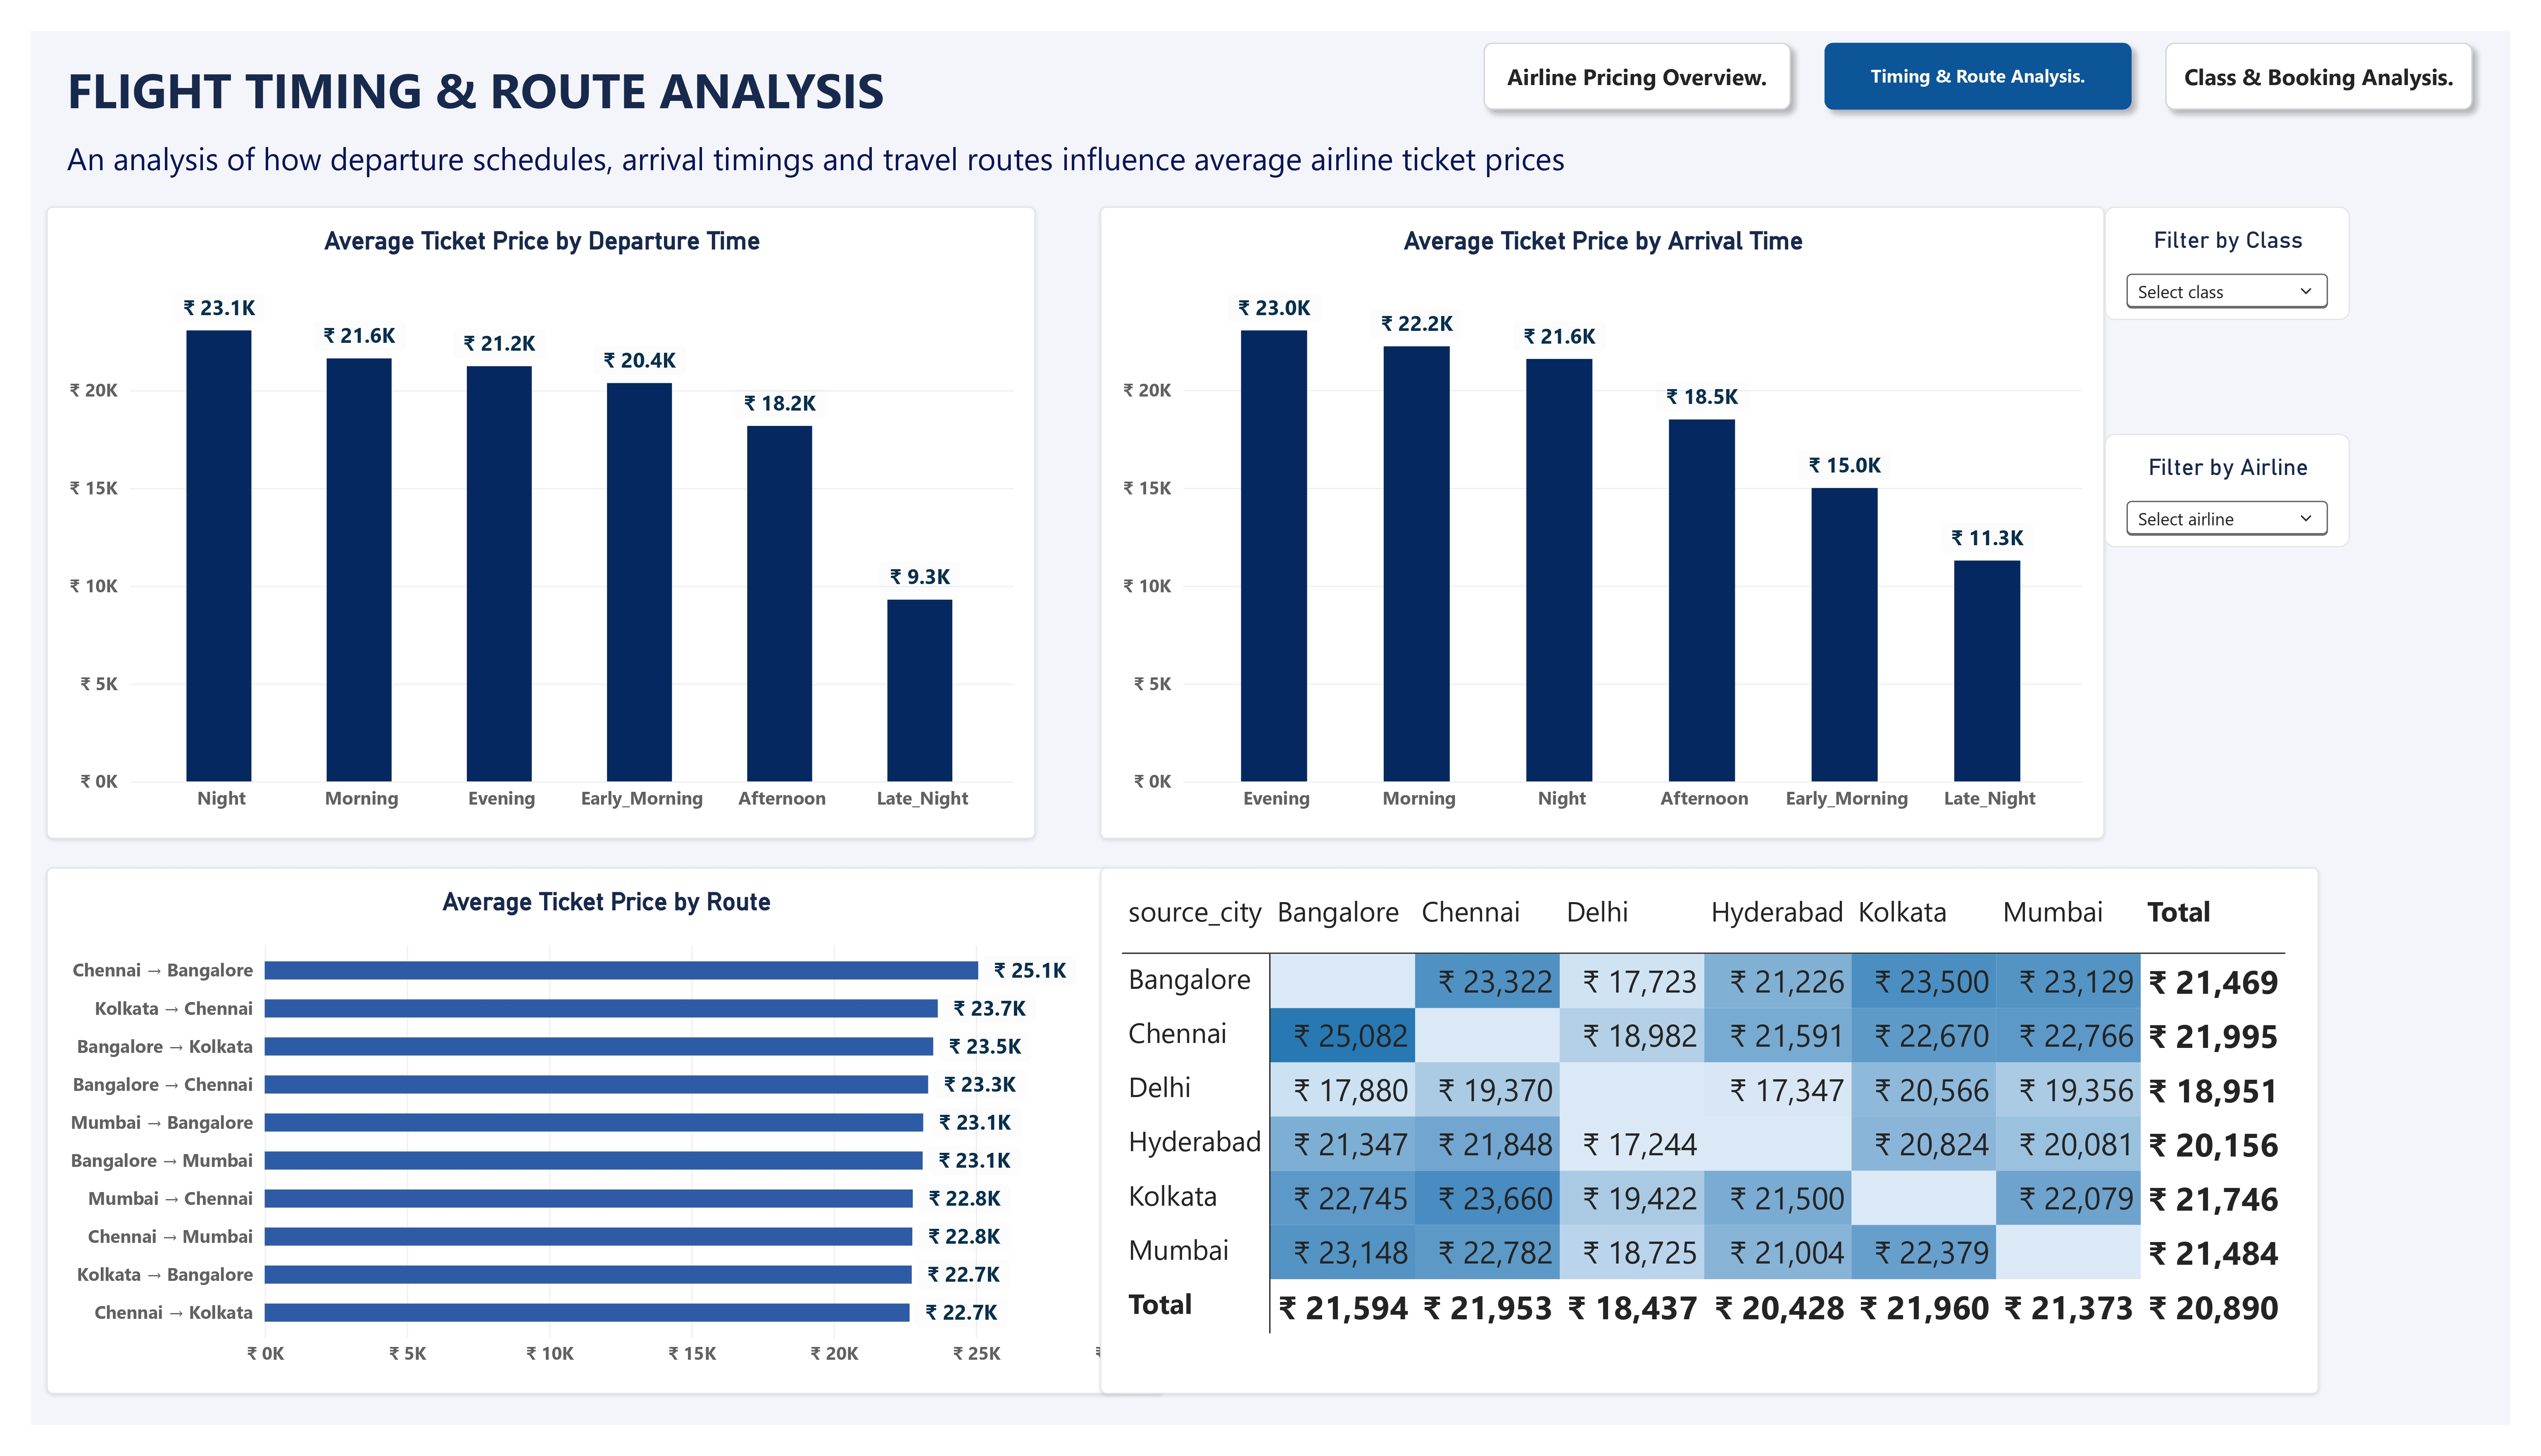

Layout of this report page (visuals, bound fields, positions):
{"tool":"powerbi","page":{"name":"Timing & Route Analysis.","canvas":[1920,1080],"ordinal":1},"visuals":[{"type":"textbox","box":[28,20,650,62],"z":0},{"type":"textbox","box":[28,82,1182,74],"z":1000},{"type":"clusteredColumnChart","title":"Average Ticket Price by Departure Time","fields":{"Category":["Airline_Data.departure_time"],"Y":["Airline_Data.Average Ticket Price"]},"box":[12,136,766,490],"z":2000},{"type":"clusteredColumnChart","title":"Average Ticket Price by Arrival Time","fields":{"Category":["Airline_Data.arrival_time"],"Y":["Airline_Data.Average Ticket Price"]},"box":[828,136,778,490],"z":3000},{"type":"clusteredBarChart","fields":{"Category":["Airline_Data.Route"],"Y":["Airline_Data.Average Ticket Price"]},"box":[12,648,866,408],"z":4000},{"type":"pivotTable","fields":{"Columns":["Airline_Data.destination_city"],"Rows":["Airline_Data.source_city"],"Values":["Airline_Data.Average Ticket Price"]},"box":[828,648,944,408],"z":5000},{"type":"listSlicer","title":"Filter by Airline","fields":{"Values":["Airline_Data.airline"]},"box":[1606,312,190,88],"z":6000},{"type":"listSlicer","title":"Filter by Class","fields":{"Values":["Airline_Data.class"]},"box":[1606,136,190,88],"z":7000},{"type":"pageNavigator","box":[1116,0,784,70],"z":8000}]}

Visuals, with their boxes on the page's 1920x1080 design canvas (x1, y1, x2, y2). These are canvas units, not pixel positions in the 2541x1456 screenshot, which may show the page scaled, cropped or inside an application window:
textbox: [28,20,678,82]
textbox: [28,82,1210,156]
"Average Ticket Price by Departure Time" clusteredColumnChart: [12,136,778,626]
"Average Ticket Price by Arrival Time" clusteredColumnChart: [828,136,1606,626]
clusteredBarChart - Airline_Data.Route x Airline_Data.Average Ticket Price: [12,648,878,1056]
pivotTable - Airline_Data.destination_city x Airline_Data.source_city: [828,648,1772,1056]
"Filter by Airline" listSlicer: [1606,312,1796,400]
"Filter by Class" listSlicer: [1606,136,1796,224]
pageNavigator: [1116,0,1900,70]
